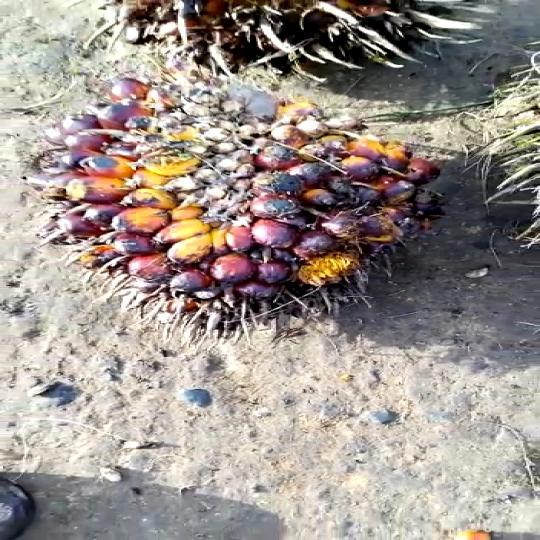masak: (44, 63, 451, 315)
